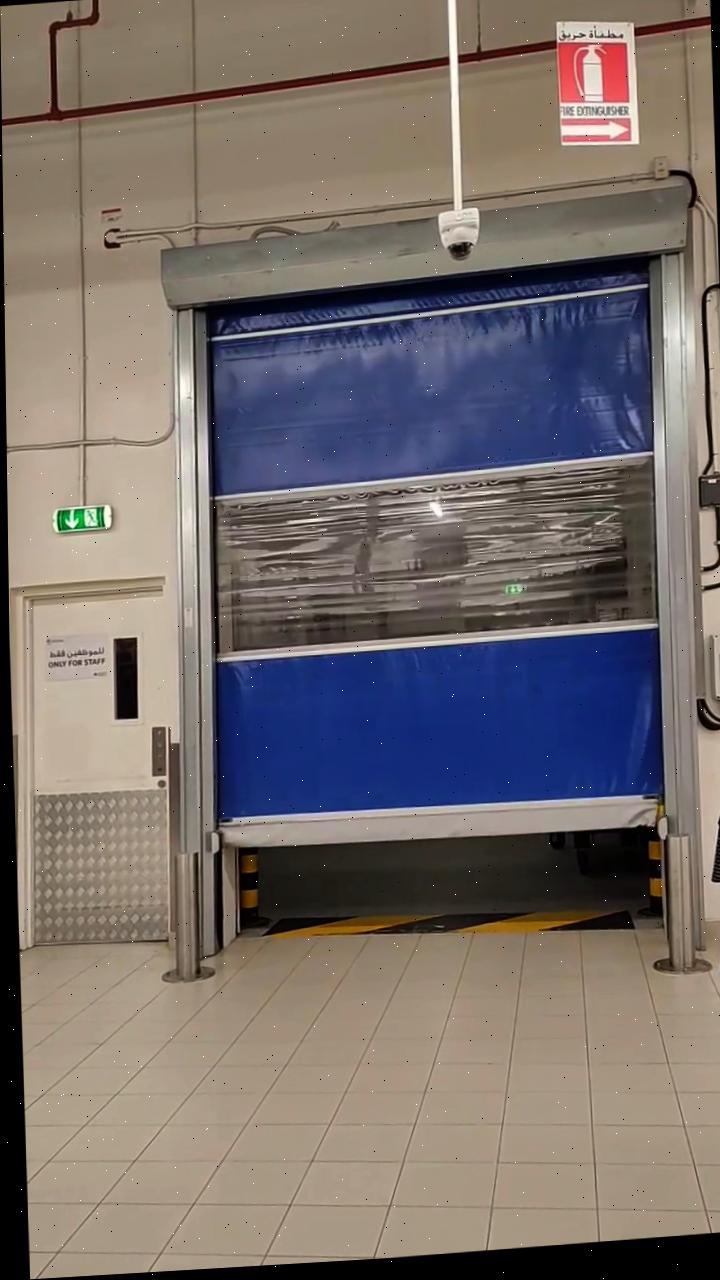Strip: (261, 895, 632, 966)
